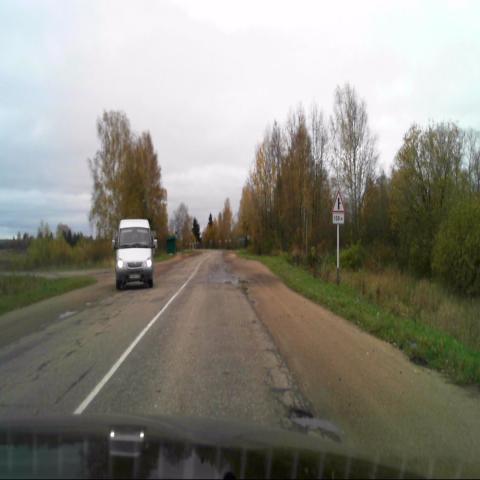2_3_2: (331, 189, 345, 213)
8_1_1: (332, 213, 343, 223)
